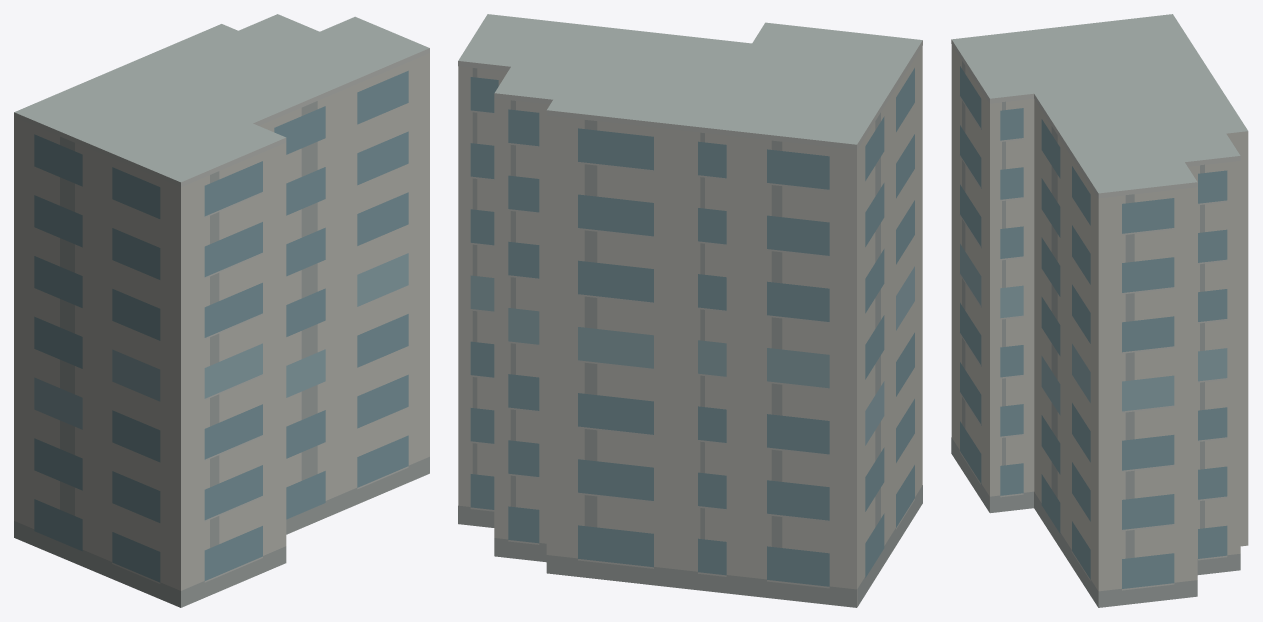
Rendered from survey-upis-32792935.glb.
3 renders of one model, left to right at view 1: azimuth 30°, elevation 25°; view 2: azimuth 150°, elevation 25°; view 3: azimuth 270°, elevation 25°, orthographic. The views are drawn at different scales.
Parts seen in each view (by area): view 1: survey-upis-32792935.tmp; view 2: survey-upis-32792935.tmp; view 3: survey-upis-32792935.tmp.
Boxes of the visible parts, x1,y1,x2,y2 form: survey-upis-32792935.tmp: [14, 14, 429, 607]; survey-upis-32792935.tmp: [458, 14, 922, 607]; survey-upis-32792935.tmp: [951, 14, 1248, 607].
Bounding box in the file's own units: 19.51 × 21 × 13.64.
